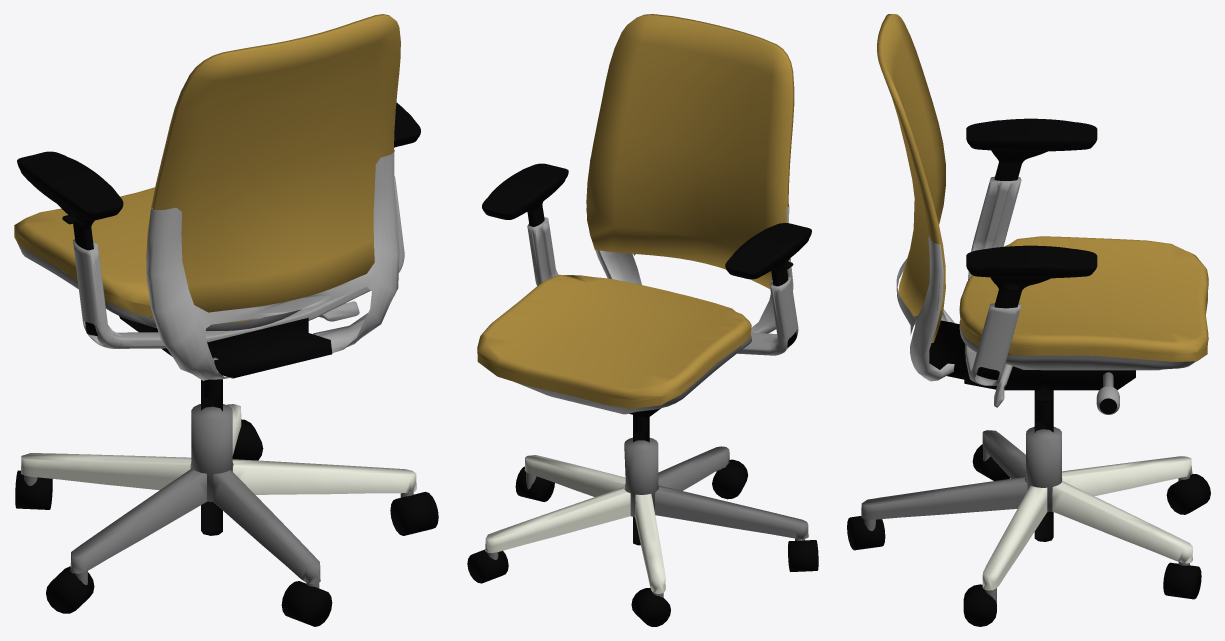
File: LBSR_Chair_roller.fbx
3 views of the same model, side by side, from view 1: azimuth 30°, elevation 25°; view 2: azimuth 150°, elevation 25°; view 3: azimuth 270°, elevation 25° (orthographic). The views are drawn at different scales.
Visible parts, largest first — view 1: back, bottom, arms, seat, wheel, wheel.003, wheel.001, wheel.002, wheel.004; view 2: back, seat, bottom, arms, wheel.002, wheel.004, wheel, wheel.001, wheel.003; view 3: seat, bottom, arms, back, wheel.002, wheel.004, wheel.003, wheel, control, wheel.001.
Boxes of the visible parts, x1,y1,x2,y2 form: back: (146,14,400,380); bottom: (21,316,416,584); arms: (17,102,420,348); seat: (14,187,300,330); wheel: (281,581,332,626); wheel.003: (390,491,438,535); wheel.001: (46,566,94,613); wheel.002: (15,470,52,509); wheel.004: (232,419,263,460); back: (586,14,794,333); seat: (477,274,751,414); bottom: (485,408,808,593); arms: (482,163,811,355); wheel.002: (631,588,670,626); wheel.004: (467,549,508,583); wheel: (712,459,747,499); wheel.001: (788,538,818,571); wheel.003: (515,466,554,501); seat: (959,236,1208,370); bottom: (861,320,1192,590); arms: (965,118,1097,386); back: (877,14,954,381); wheel.002: (1166,474,1210,514); wheel.004: (1163,562,1201,599); wheel.003: (963,584,996,626); wheel: (847,516,885,550); control: (1096,372,1119,414); wheel.001: (972,444,1009,480).
Size of the model in its own units: 2.92 by 4.31 by 2.83.
